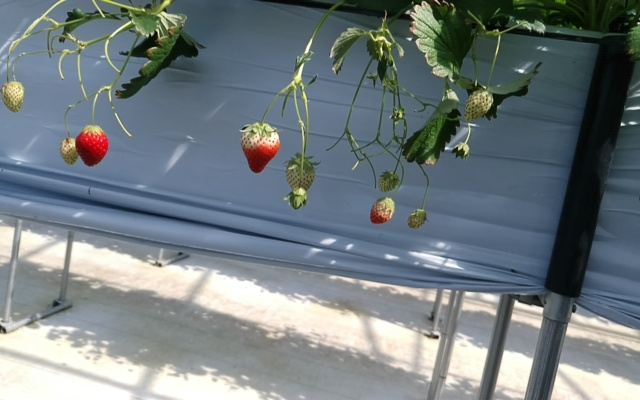GreenStrawberry: (464, 85, 493, 126), (284, 157, 313, 193), (1, 81, 25, 116), (57, 135, 78, 168), (378, 171, 401, 193), (407, 208, 427, 231)
MatureStrawberry: (240, 122, 282, 177), (76, 124, 110, 169), (369, 196, 395, 225)
